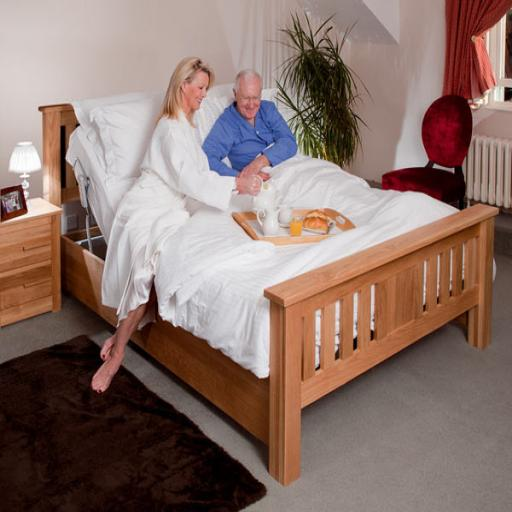bed: (38, 84, 499, 486)
